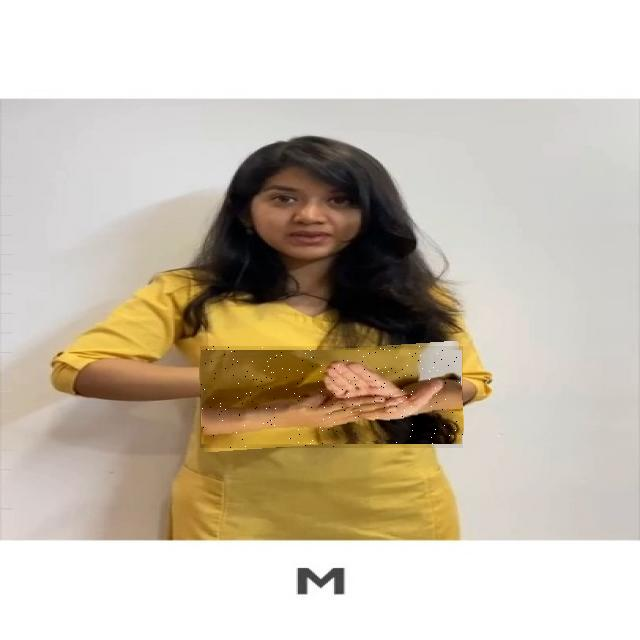M: (200, 346, 463, 448)
